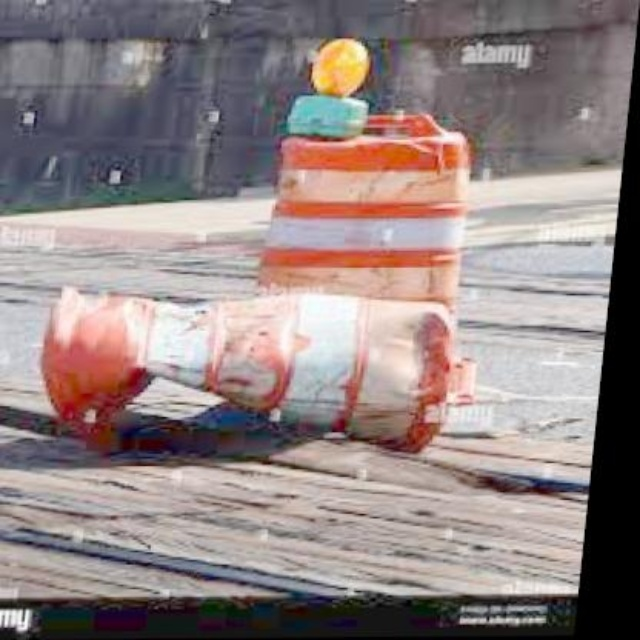obstacle: (40, 261, 503, 477), (248, 113, 492, 313)
